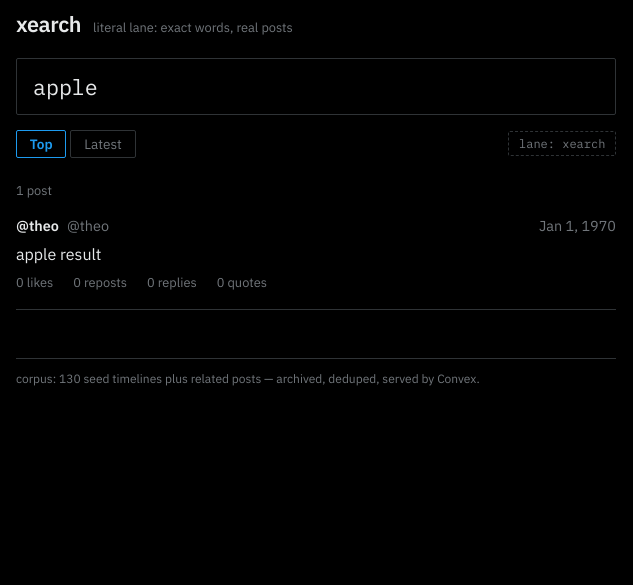
Test: lane toggle /?q=apple (lane: xearch) shows loading, never stale results
The width and height of the screenshot is (633, 585).
Click the button "lane: xearch". click: (562, 144)
box: [508,131,616,156]
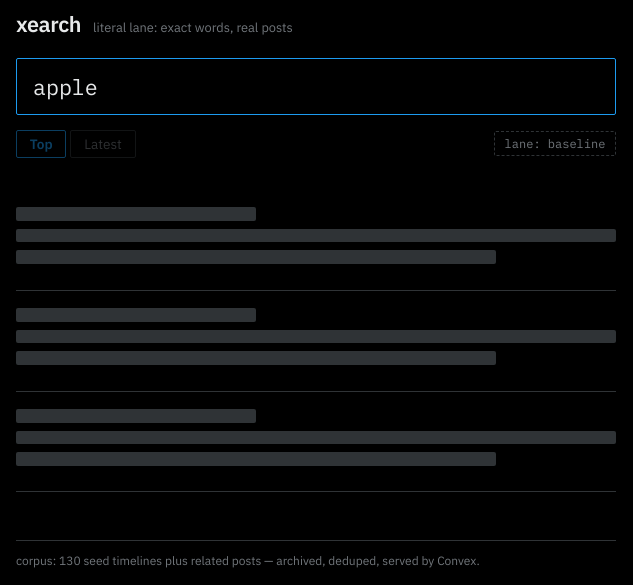
Now the button "lane: baseline" is shown, box [494,131,616,156]
Now the element named "Loading results" is shown, box [16,190,616,492]
